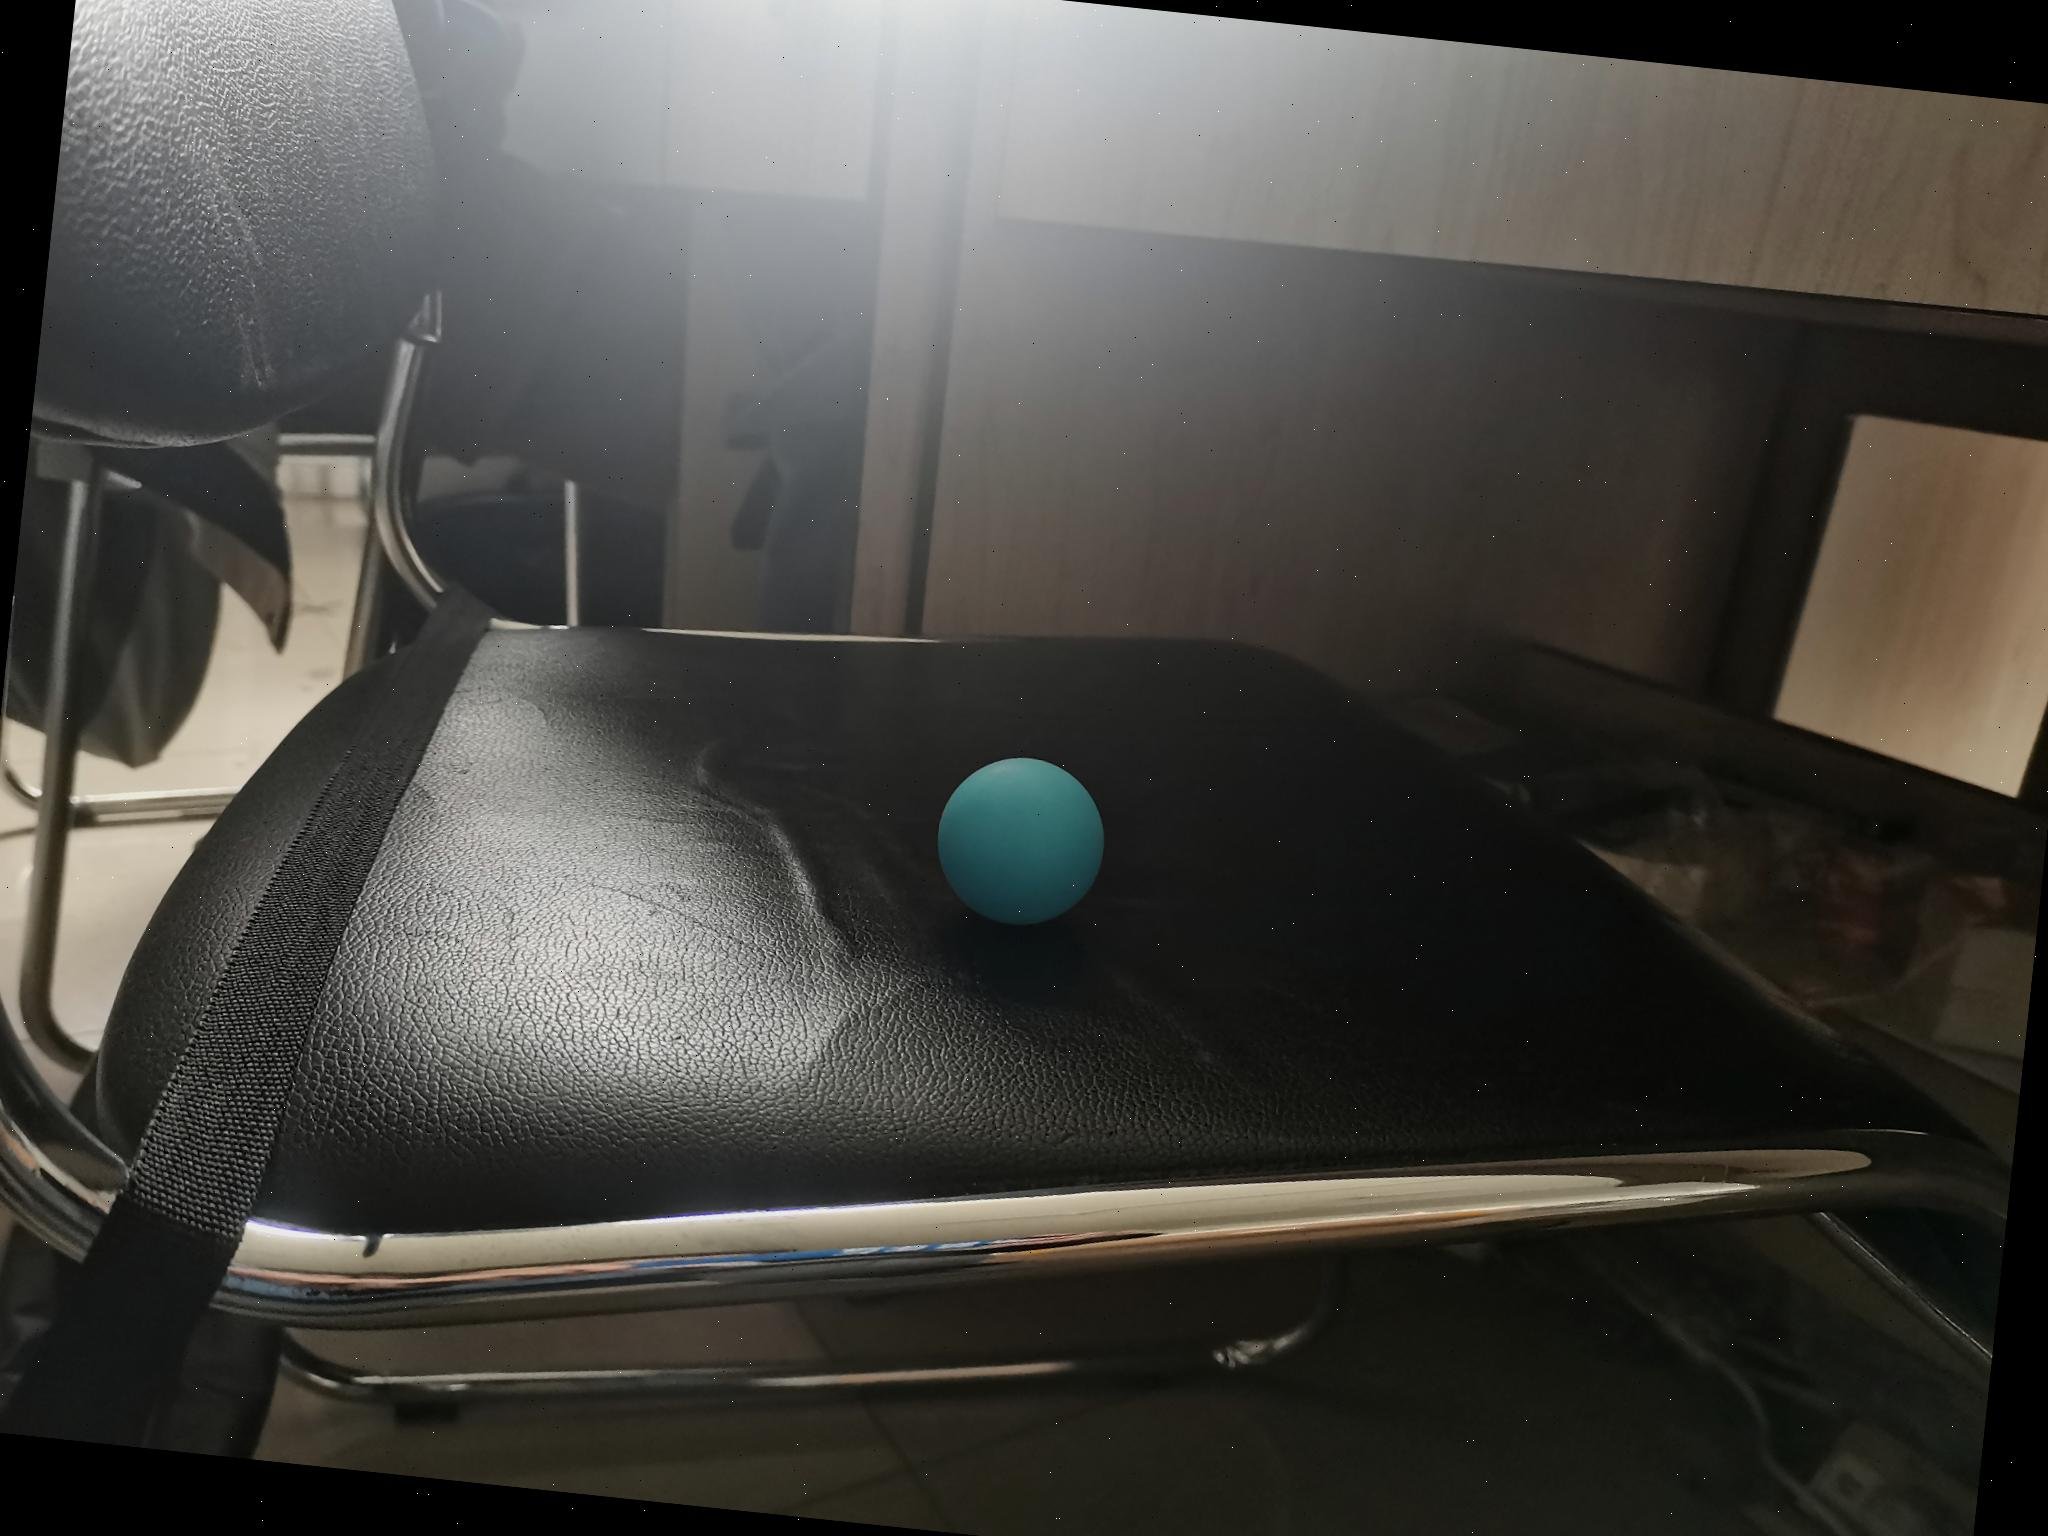ball: (922, 741, 1114, 941)
